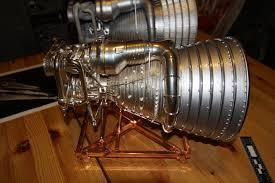thruster: (100, 33, 254, 147), (107, 0, 205, 49)
